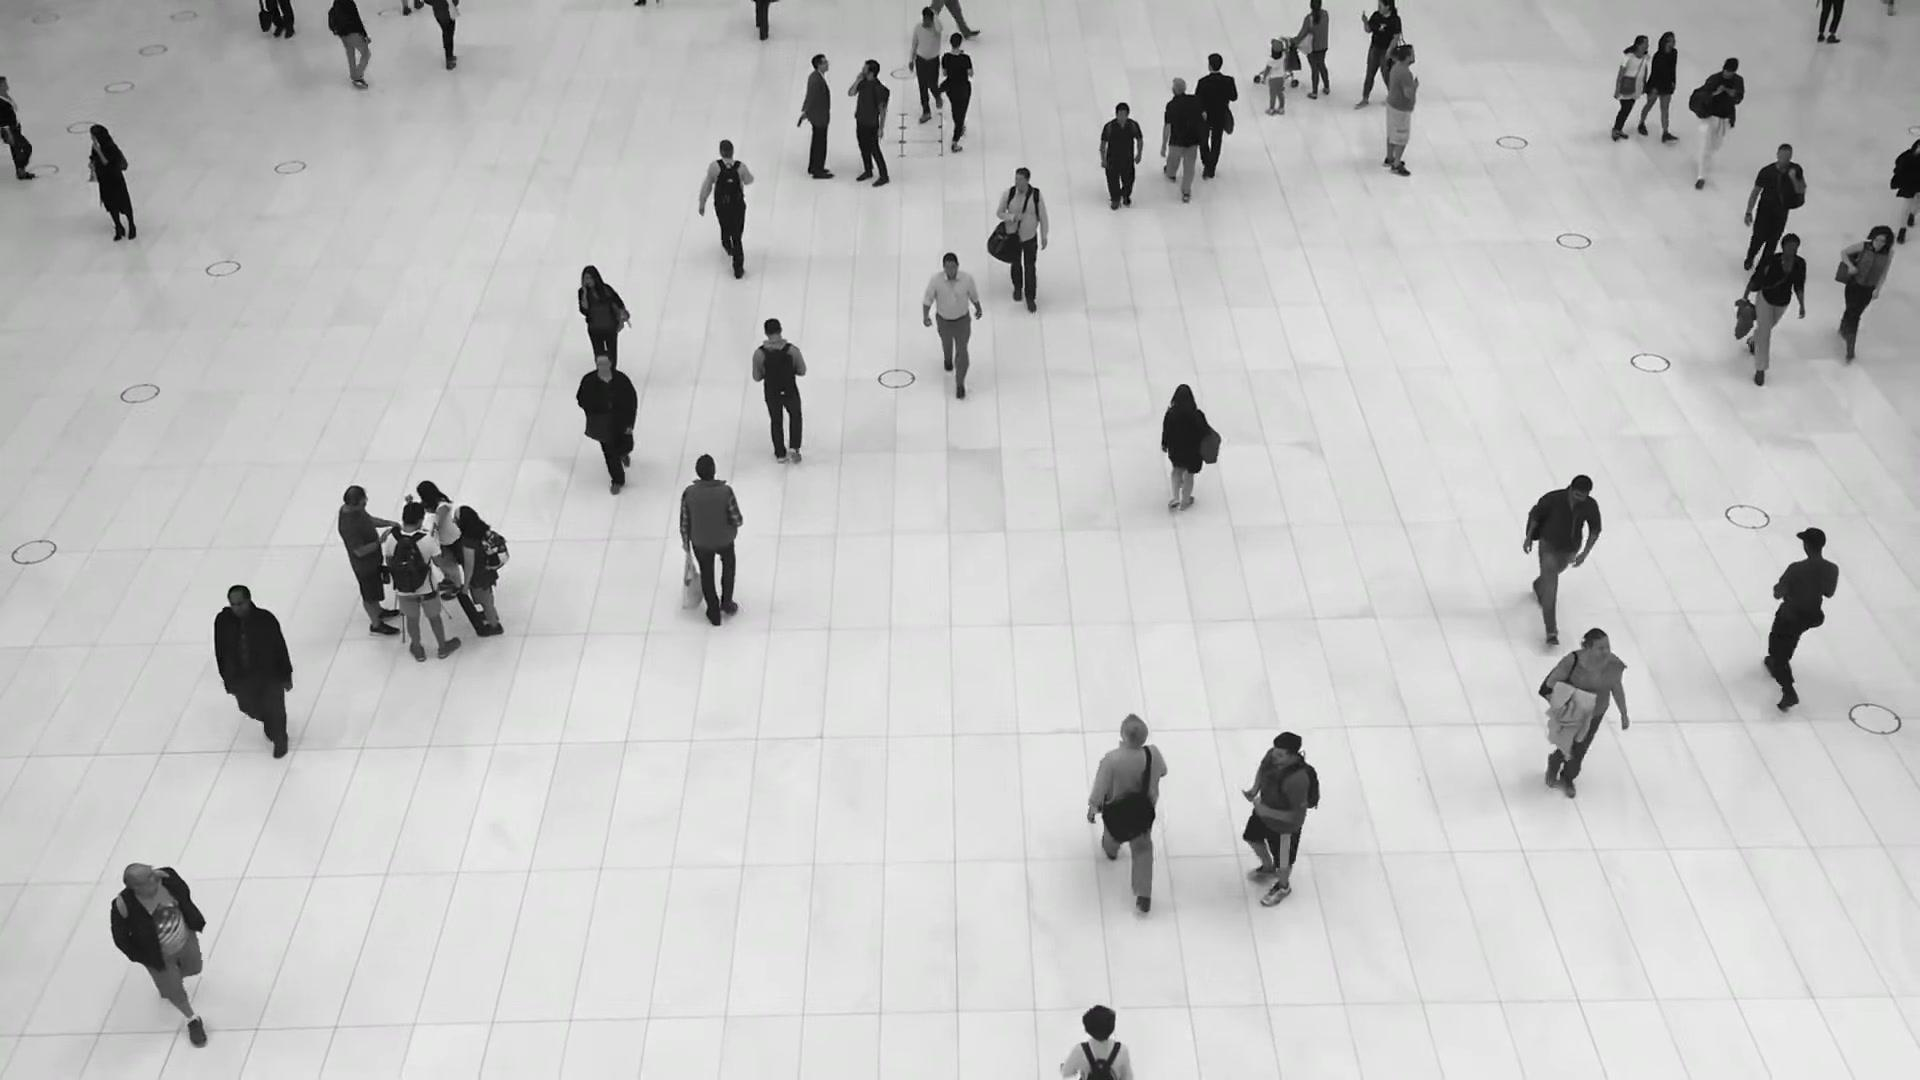person: (109, 861, 209, 1048), (1537, 627, 1627, 808), (1087, 714, 1170, 907), (1236, 731, 1320, 907), (1758, 528, 1840, 710), (214, 584, 295, 763), (1523, 471, 1600, 643), (381, 503, 460, 663), (678, 456, 743, 634), (1745, 230, 1806, 382), (337, 484, 400, 636), (575, 351, 638, 495), (752, 320, 808, 472), (923, 250, 982, 394), (1836, 223, 1895, 359), (1744, 143, 1806, 271), (698, 138, 754, 276), (997, 166, 1048, 312), (454, 504, 508, 637), (1690, 56, 1745, 187), (1159, 386, 1210, 519), (1159, 76, 1208, 202), (89, 121, 136, 241), (1195, 54, 1238, 184), (848, 58, 890, 187), (1097, 102, 1144, 213), (577, 264, 628, 369), (1354, 0, 1402, 108), (417, 479, 459, 600), (1382, 44, 1420, 176), (796, 53, 834, 179), (1637, 30, 1678, 141), (1608, 35, 1649, 142), (910, 7, 944, 127), (325, 0, 370, 89), (940, 31, 973, 153), (1291, 0, 1330, 99), (1261, 38, 1288, 115)
